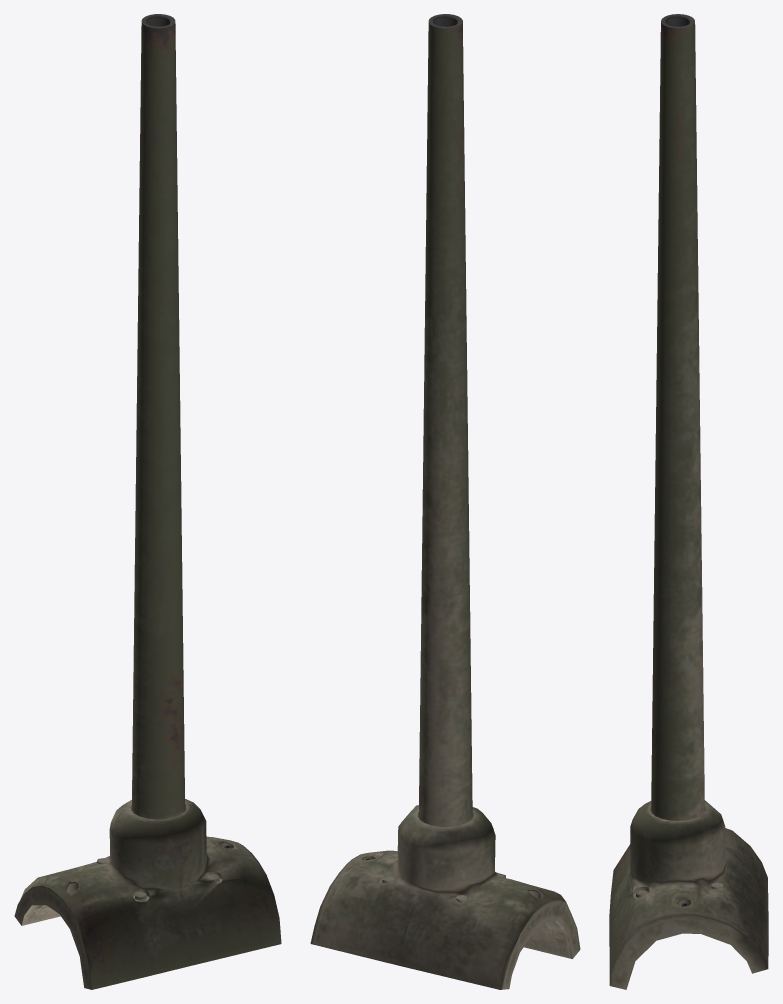
Rendered from Gun_03.glb.
3 renders of one model, left to right at view 1: azimuth 30°, elevation 25°; view 2: azimuth 150°, elevation 25°; view 3: azimuth 270°, elevation 25°, orthographic.
Parts seen in each view (by area): view 1: set_0_group_0; view 2: set_0_group_0; view 3: set_0_group_0.
Boxes of the visible parts, x1,y1,x2,y2 form: set_0_group_0: (14,14,281,989); set_0_group_0: (310,14,580,989); set_0_group_0: (609,14,768,989).
Bounding box in the file's own units: 0.7669 × 3.58 × 0.5596.
1 material, 1 textured.
